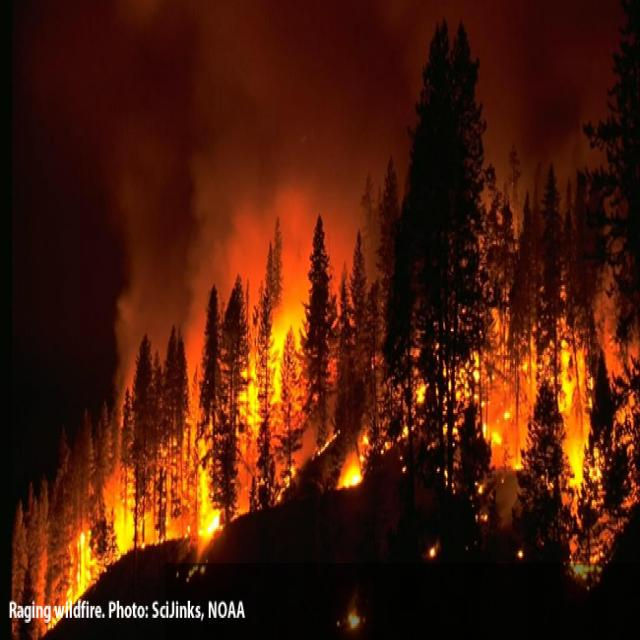Fire: (490, 319, 638, 565), (190, 283, 324, 553), (69, 500, 136, 604)
